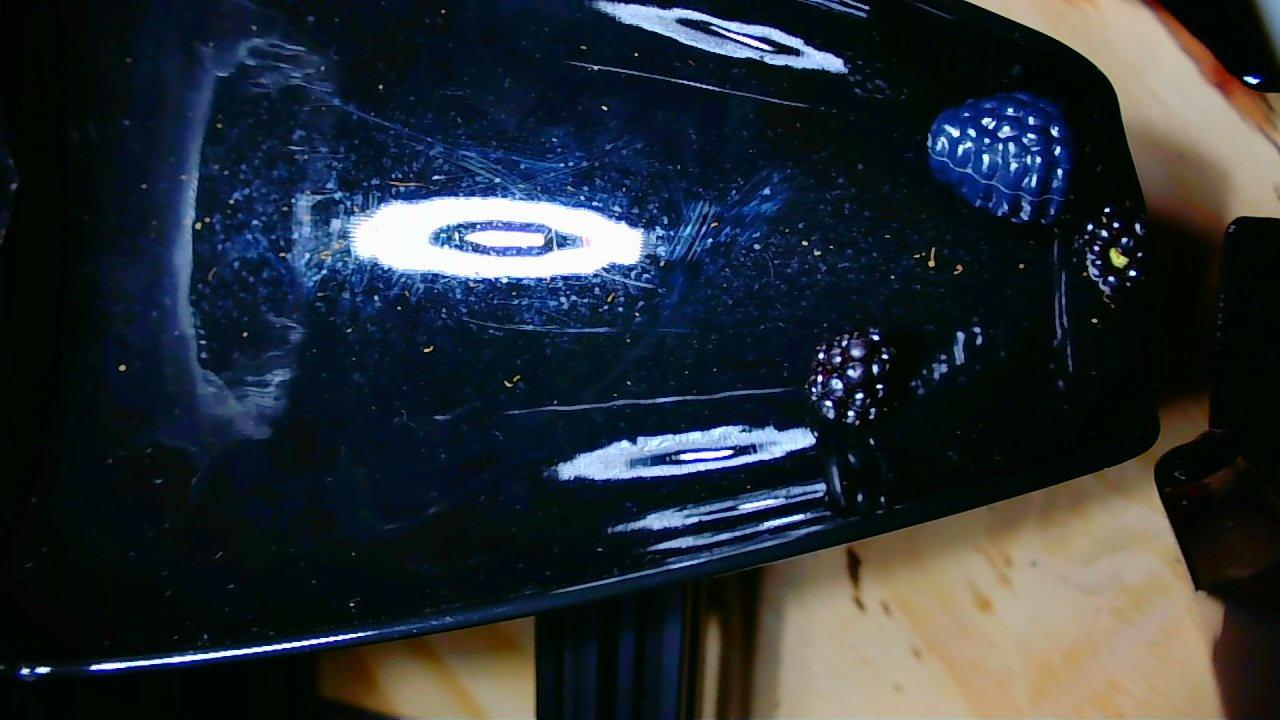berry: (927, 92, 1074, 223), (806, 327, 894, 426), (1082, 207, 1144, 297)
